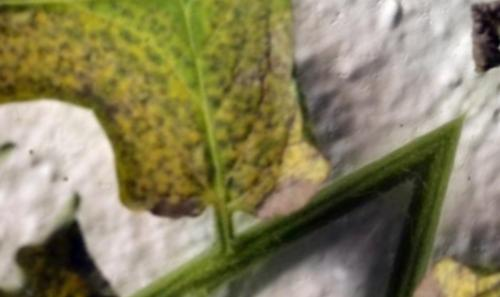Tomato leaf bacterial spot: (61, 0, 410, 287)
